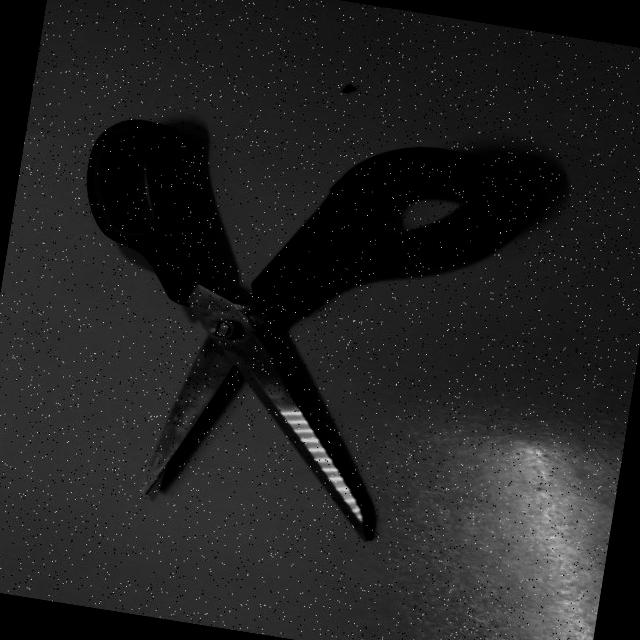scissors: (24, 87, 544, 561)
